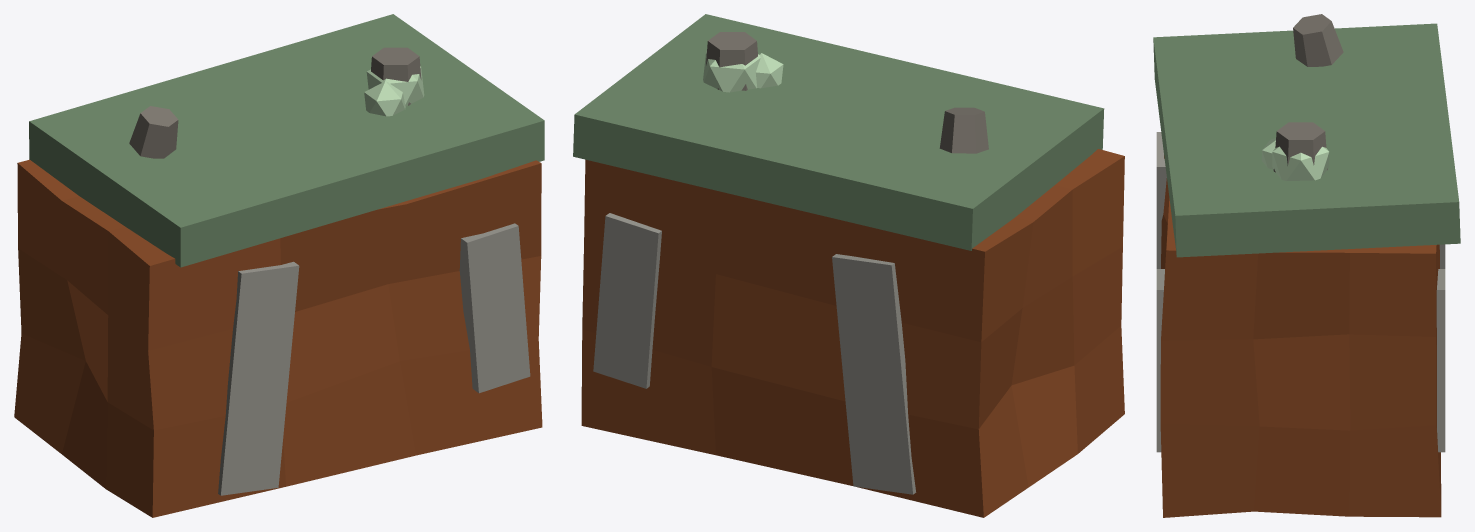
The model's file is battery_scrap.glb.
3 renders of one model, left to right at view 1: azimuth 30°, elevation 25°; view 2: azimuth 150°, elevation 25°; view 3: azimuth 270°, elevation 25°, orthographic. The views are drawn at different scales.
Parts seen in each view (by area): view 1: battery_scrap; view 2: battery_scrap; view 3: battery_scrap.
Boxes of the visible parts, bbox=[...] form: battery_scrap: bbox=[14, 14, 544, 517]; battery_scrap: bbox=[573, 14, 1124, 517]; battery_scrap: bbox=[1153, 14, 1460, 517].
Bounding box in the file's own units: 0.3108 × 0.2526 × 0.2023.
